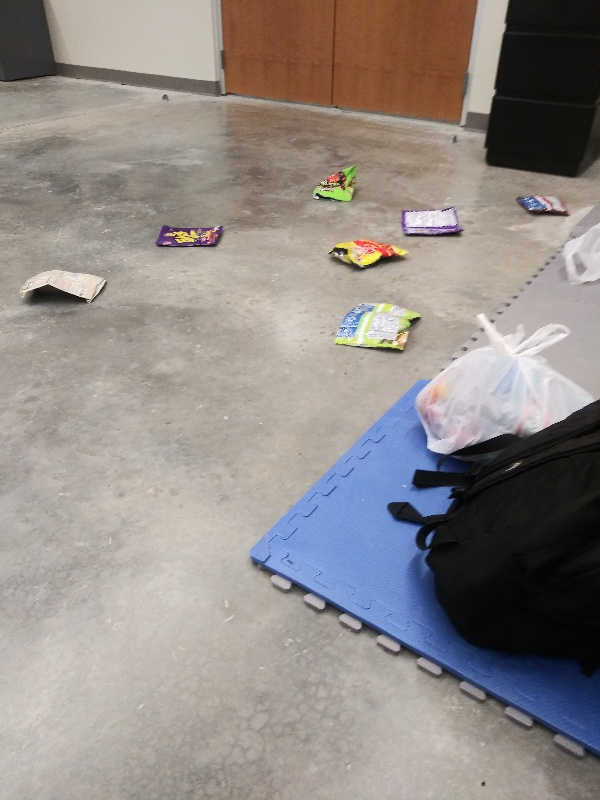bag: (324, 297, 427, 355), (14, 265, 113, 308), (319, 234, 414, 273), (396, 200, 467, 241), (152, 220, 229, 253), (309, 162, 362, 209), (512, 190, 577, 220)
